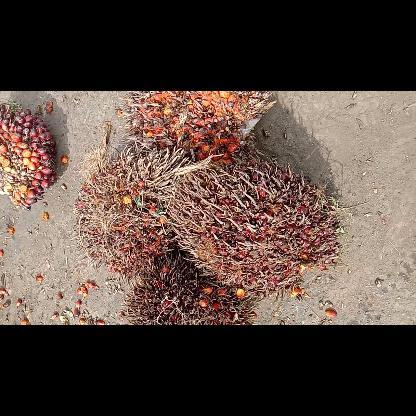Terlalu masak: (165, 155, 343, 294), (71, 146, 189, 286), (120, 91, 274, 159), (118, 252, 260, 324)
